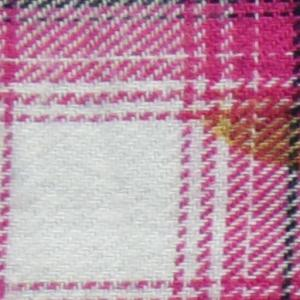Stain: (209, 97, 300, 174)
